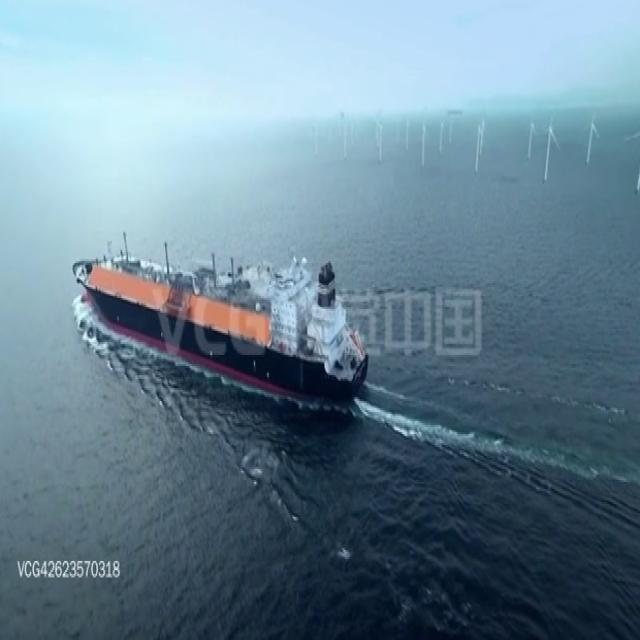cargoship: (75, 229, 368, 405)
